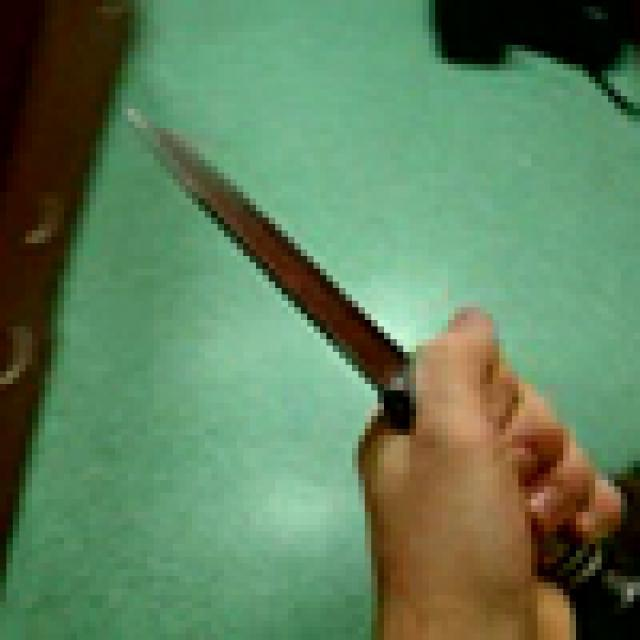knife: (122, 102, 634, 621)
